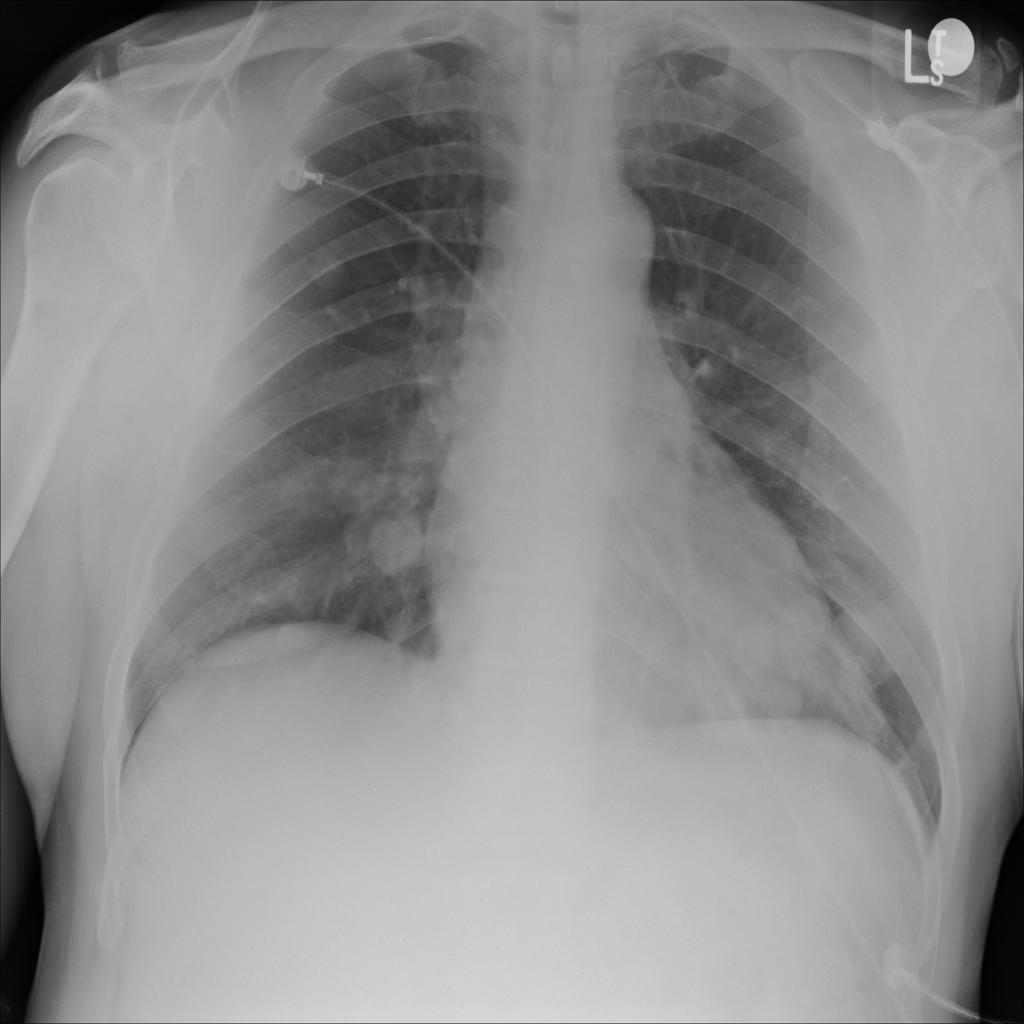nodule: (357, 504, 438, 583), (764, 585, 839, 667), (833, 597, 901, 685), (732, 665, 817, 732), (320, 445, 393, 520), (257, 451, 331, 521), (721, 606, 791, 679), (292, 235, 360, 303)
